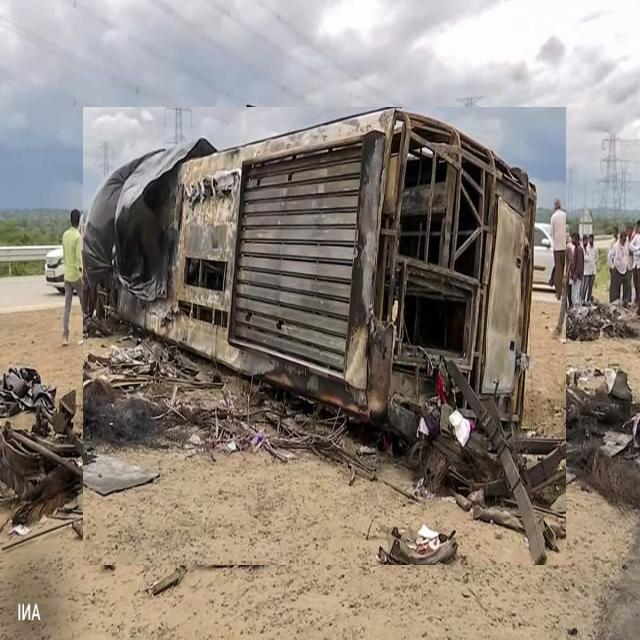accident: (83, 108, 565, 565)
